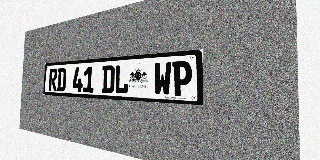1: (83, 66, 94, 93)
4: (72, 67, 83, 92)
D: (102, 65, 115, 93), (57, 68, 66, 91)
L: (114, 64, 129, 94)
P: (172, 60, 192, 97)
R: (49, 68, 57, 91)
W: (153, 62, 172, 96)
